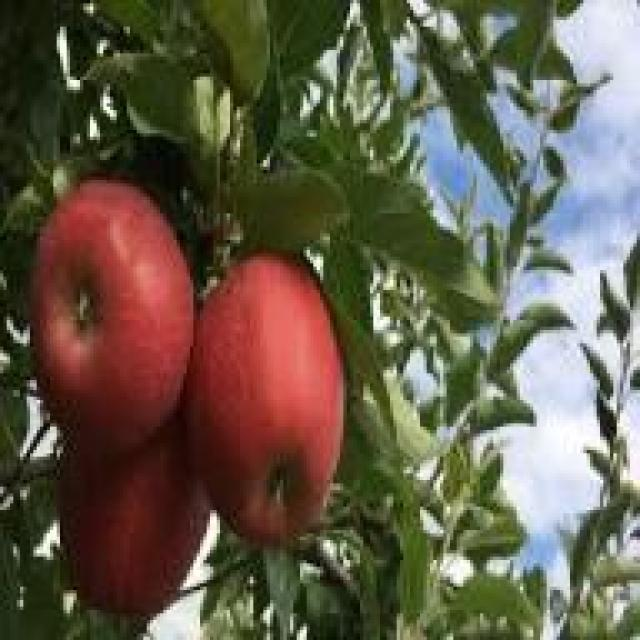apple: (187, 257, 350, 553), (37, 187, 200, 443), (50, 420, 200, 637)
